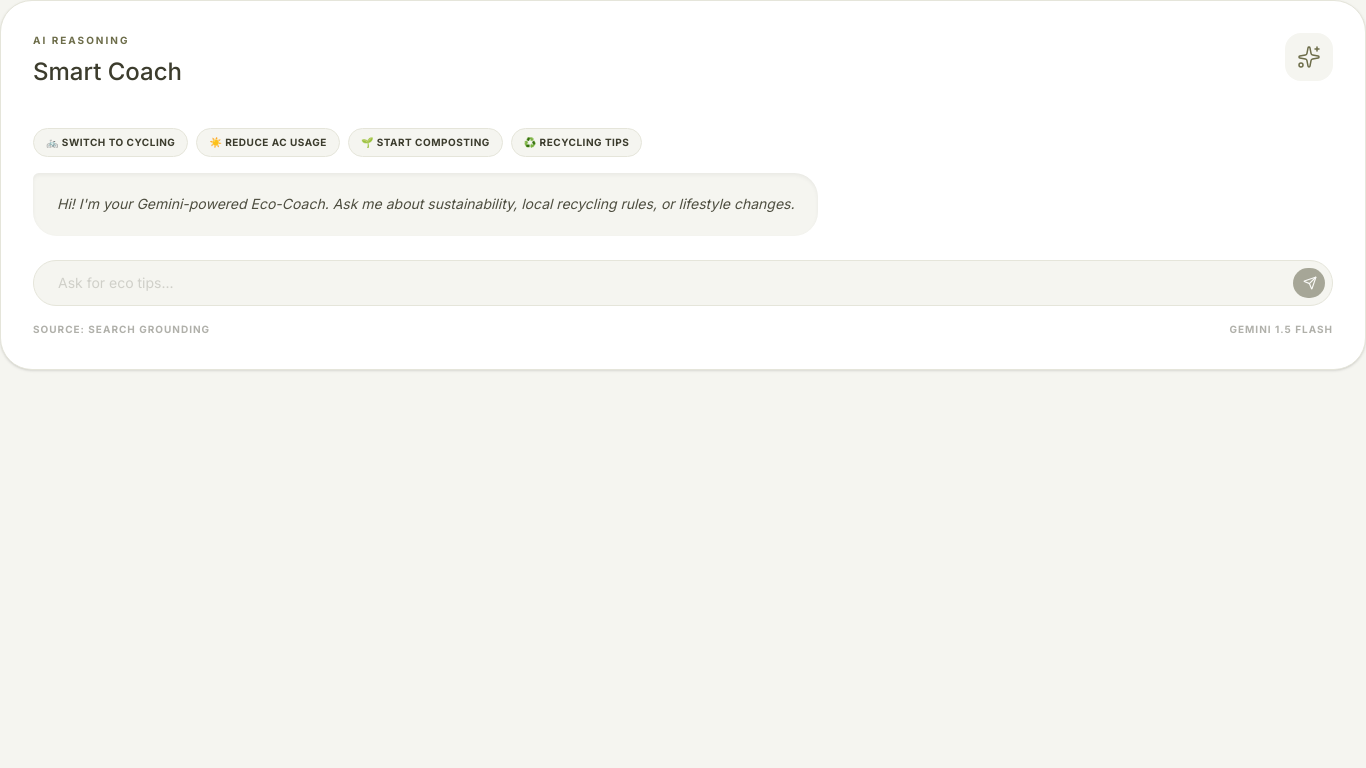
EcoCoach › disables send button while loading
Type "Hello" into the field with placeholder "Ask for eco tips..." at (683, 283), box [33,260,1333,306]
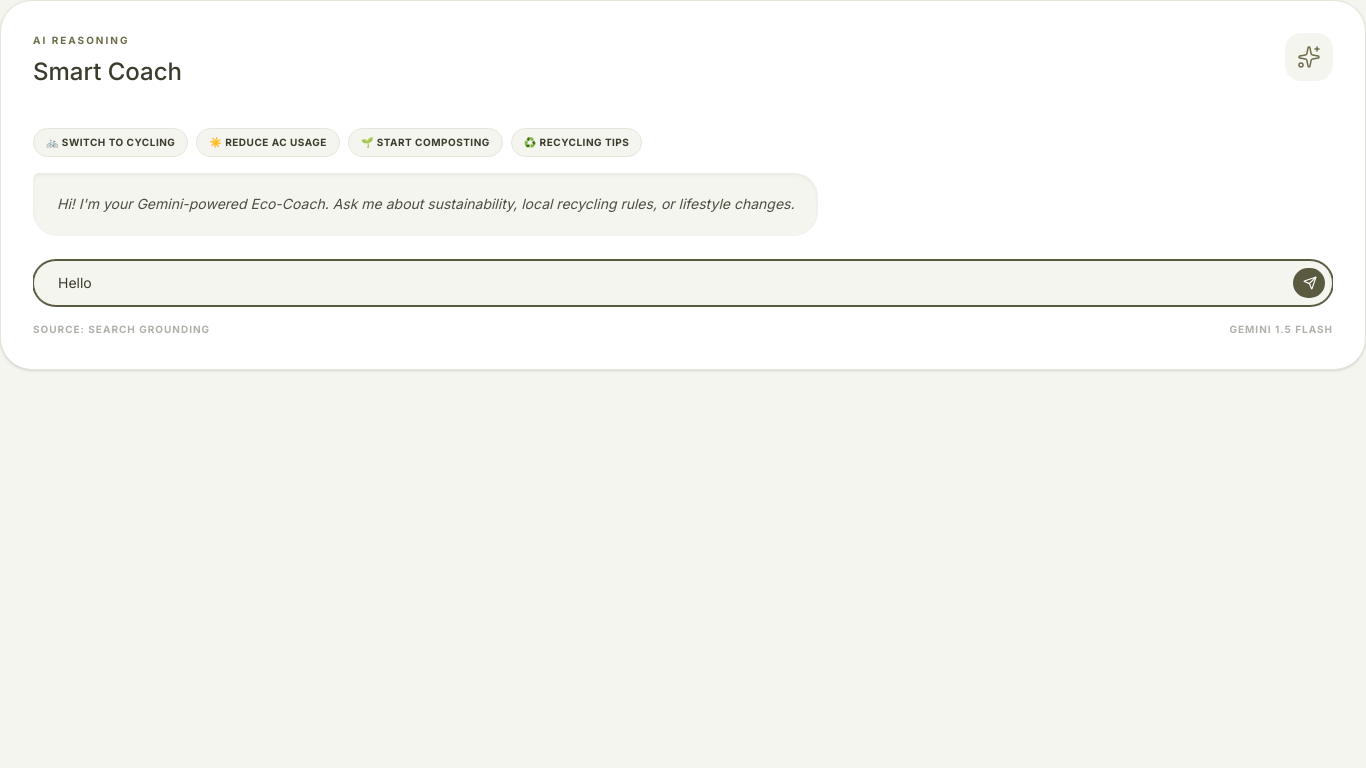
Click the button named "Send message to Eco Coach" at (1309, 283), box [1293,268,1325,298]
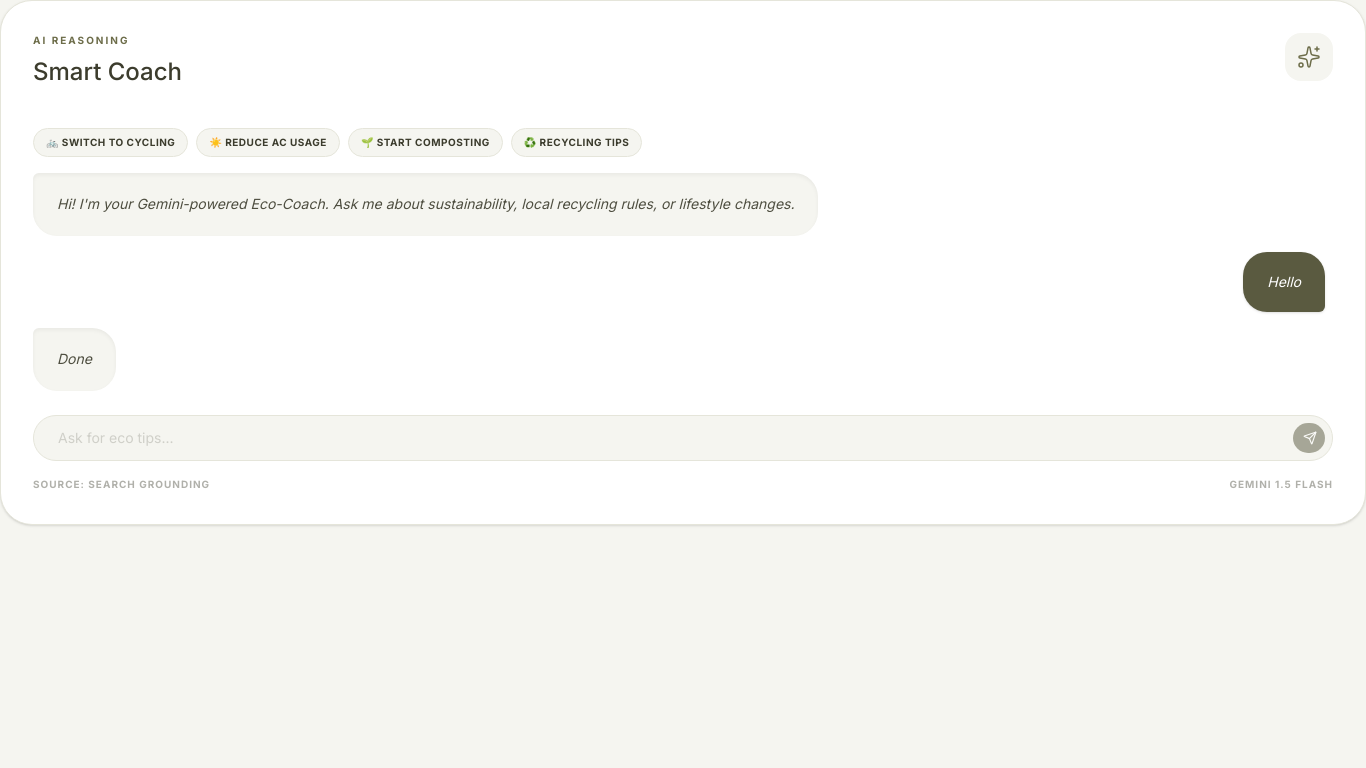
Expected: the button named "Send message to Eco Coach" is disabled, [1293,422,1325,452]
